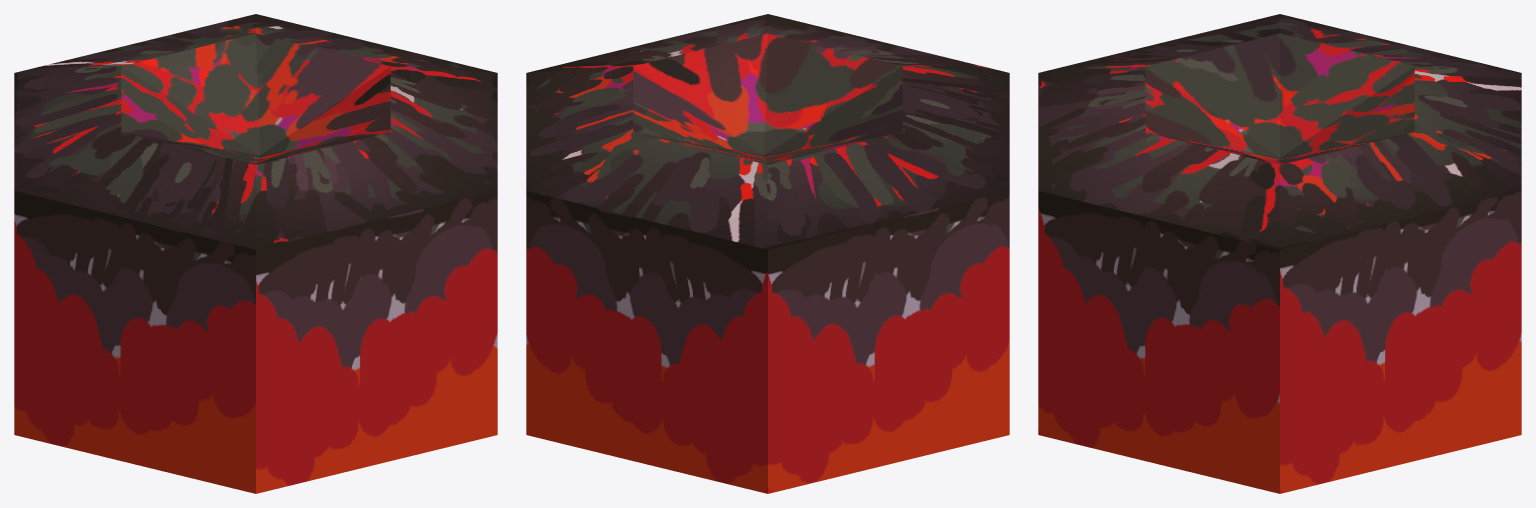
File: tile_wasteland.FBX
3 views of the same model, side by side, from view 1: azimuth 30°, elevation 25°; view 2: azimuth 150°, elevation 25°; view 3: azimuth 270°, elevation 25° (orthographic).
Visible parts, largest first — view 1: Cylinder001; view 2: Cylinder001; view 3: Cylinder001.
Boxes of the visible parts, x1,y1,x2,y2 form: Cylinder001: [14, 14, 497, 493]; Cylinder001: [526, 14, 1009, 493]; Cylinder001: [1038, 14, 1521, 493].
Bounding box in the file's own units: 25.3 × 21.91 × 13.85.
1 material, 1 textured.
